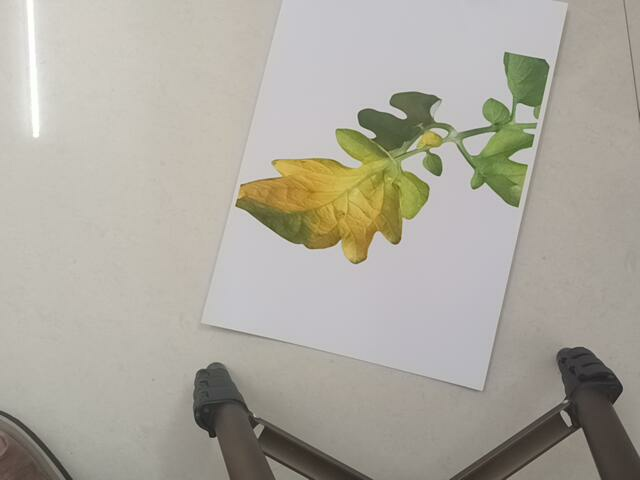Tomamto_Yellow_Disease: (240, 51, 554, 259)
